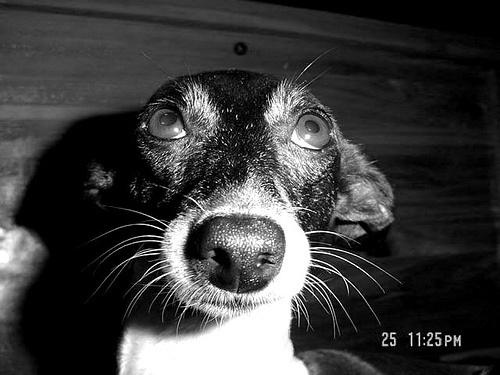dog: (83, 68, 398, 375)
